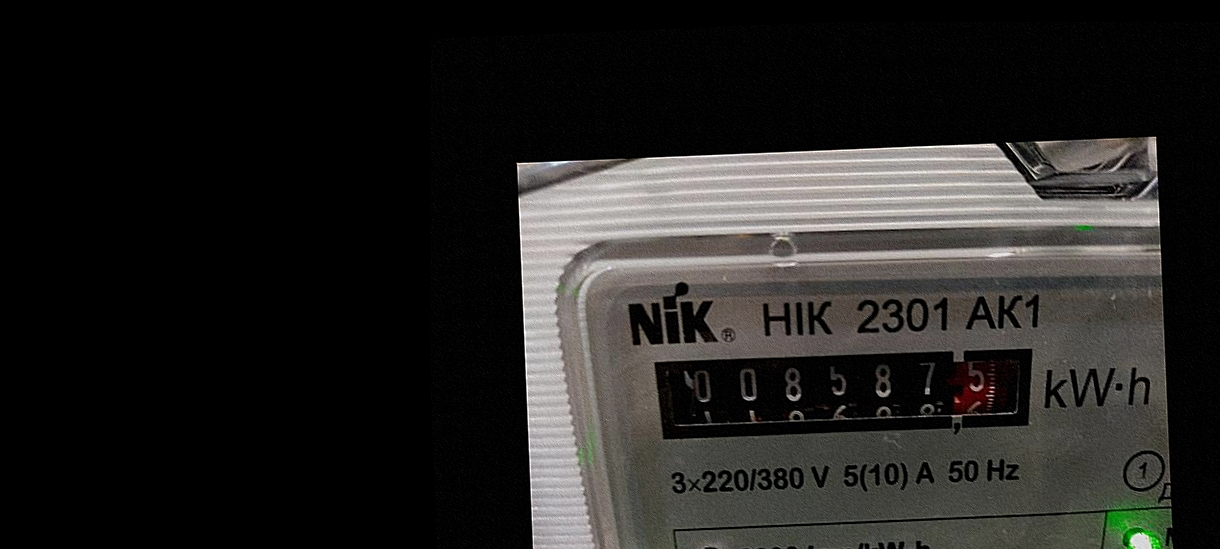0: (736, 363, 761, 404)
1: (690, 365, 715, 407)
5: (965, 355, 990, 396), (827, 361, 851, 400)
7: (916, 358, 940, 400)
8: (780, 364, 806, 406), (872, 360, 894, 402)
screen: (634, 326, 1056, 462)
